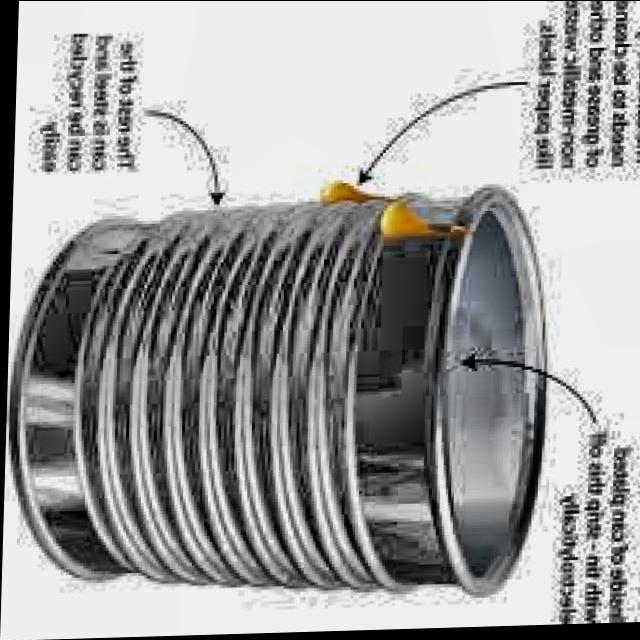Aluminum Can: (2, 178, 562, 618)
